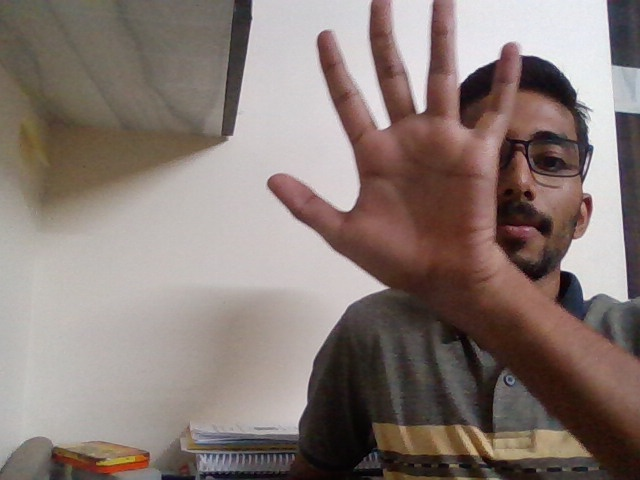Hello: (250, 1, 547, 299)
